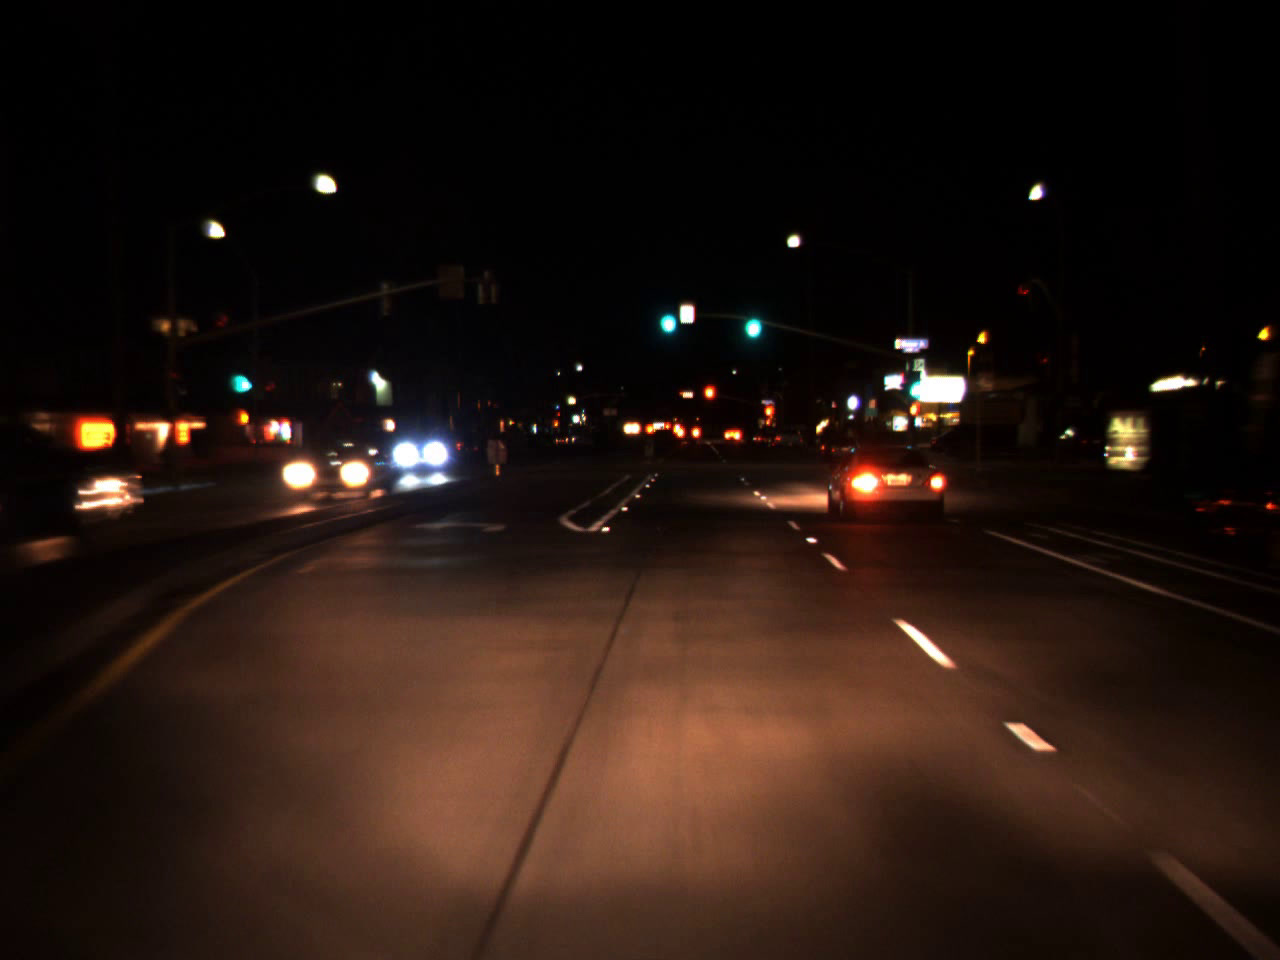go: (655, 292, 678, 340), (738, 301, 765, 339), (231, 353, 249, 398), (905, 363, 921, 402)
stop: (702, 381, 718, 416), (764, 403, 776, 435)
